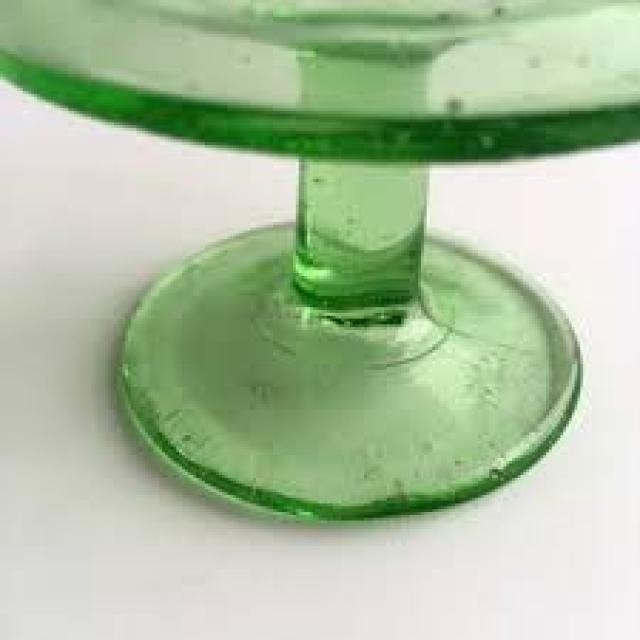glass: (0, 0, 637, 521)
